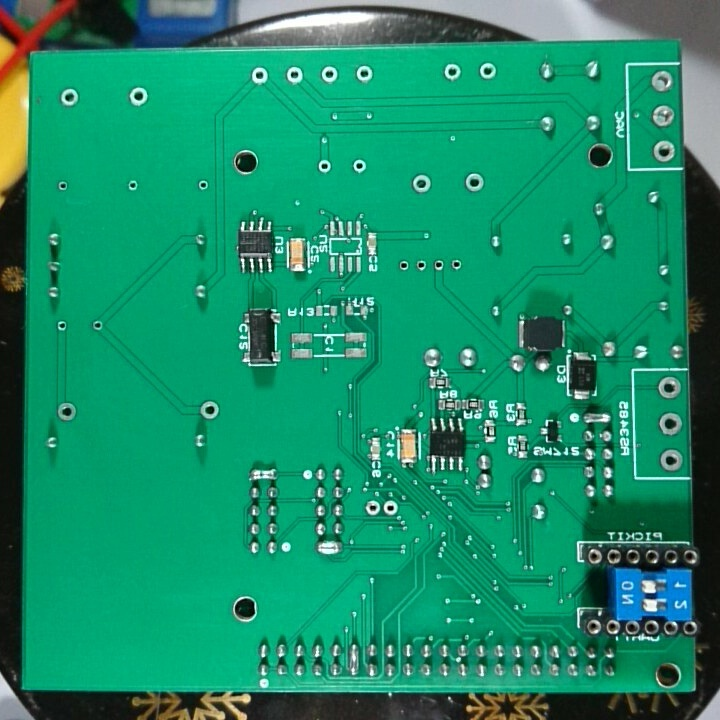F: (655, 373, 685, 400), (125, 82, 151, 112), (658, 446, 687, 472), (650, 100, 676, 128), (196, 397, 224, 423), (648, 69, 676, 94), (461, 171, 490, 195), (652, 138, 679, 163), (656, 412, 683, 437), (247, 63, 272, 89), (283, 61, 306, 89), (318, 63, 343, 88), (476, 59, 501, 84), (58, 85, 84, 109), (440, 61, 465, 85), (54, 400, 79, 423), (353, 61, 375, 87), (410, 172, 434, 195), (447, 252, 466, 276), (350, 155, 369, 177), (381, 499, 401, 518), (363, 498, 382, 517), (314, 157, 332, 176), (397, 255, 413, 276), (412, 255, 428, 276), (430, 255, 446, 275), (90, 318, 106, 335), (196, 177, 212, 194), (56, 178, 71, 195), (53, 319, 71, 333), (126, 178, 141, 194)
P: (313, 538, 345, 559), (246, 466, 282, 483), (581, 408, 614, 426), (346, 639, 361, 678)
